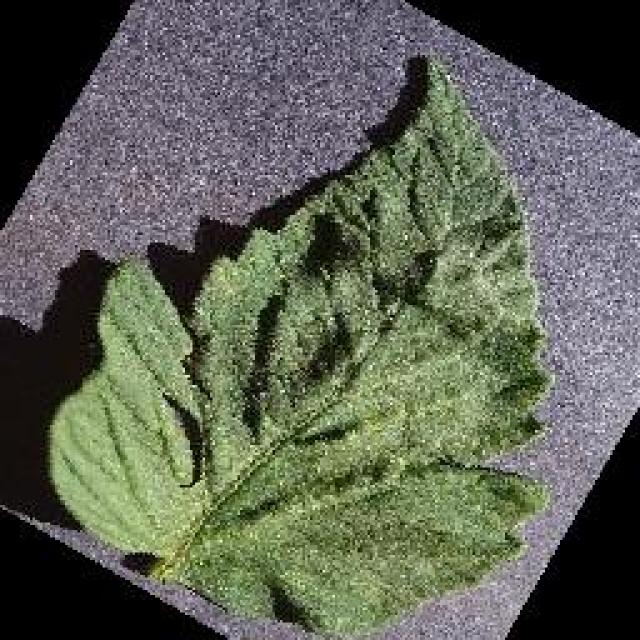Tomato___healthy: (43, 52, 561, 638)
